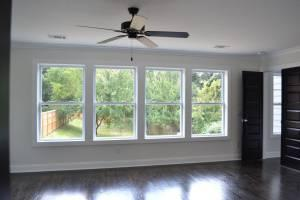window: (36, 62, 230, 138)
